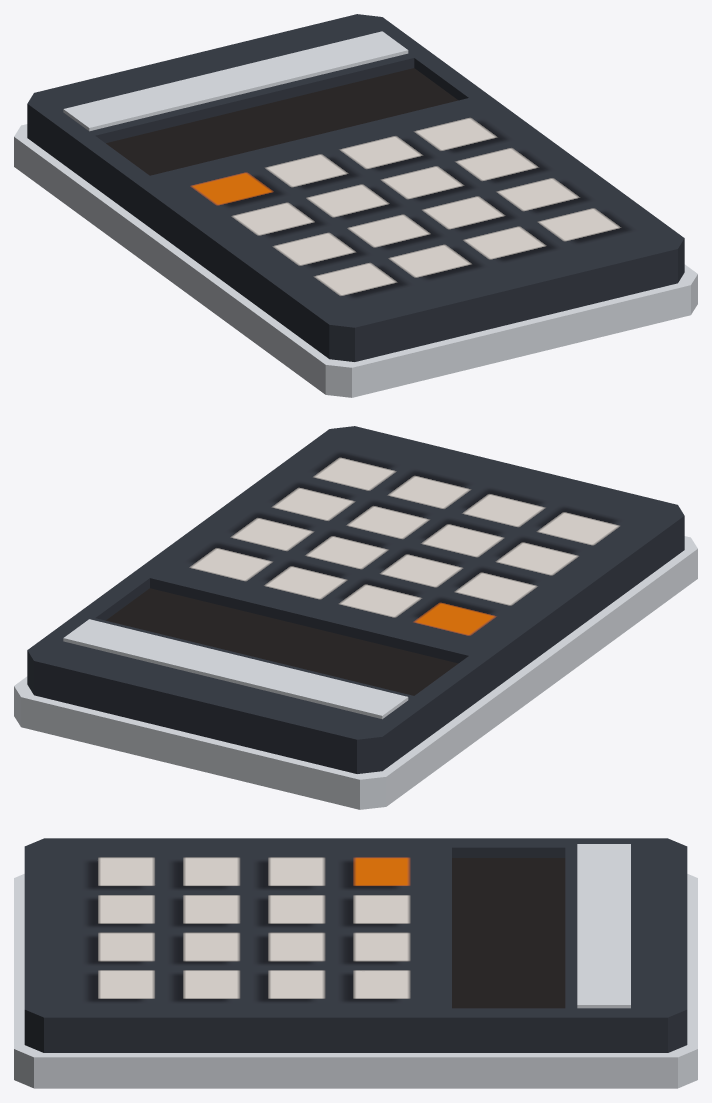
Rendered from calculator.FBX.
3 renders of one model, top to bottom at view 1: azimuth 30°, elevation 25°; view 2: azimuth 150°, elevation 25°; view 3: azimuth 270°, elevation 25°, orthographic. The views are drawn at different scales.
Parts seen in each view (by area): view 1: calculator; view 2: calculator; view 3: calculator.
Boxes of the visible parts, <box> form: calculator: <box>14,14,697,397</box>; calculator: <box>14,426,697,809</box>; calculator: <box>14,838,697,1088</box>.
Size of the model in its own units: 11.46 by 2 by 17.64.
1 material, 1 textured.
